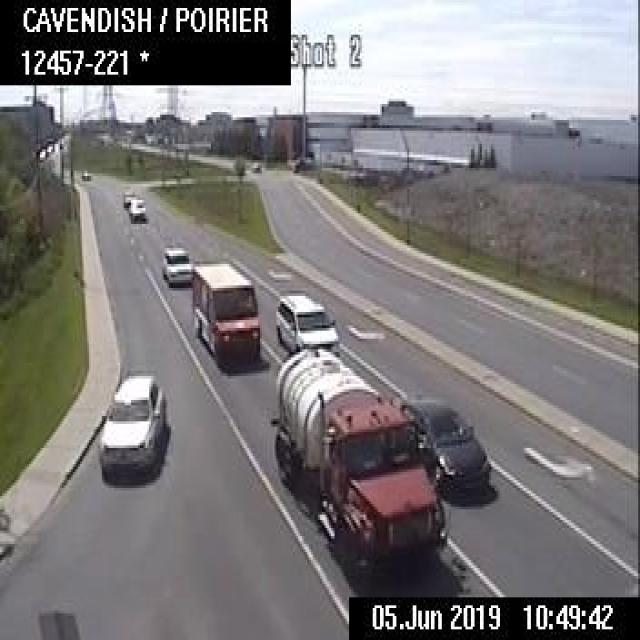vehicle: (273, 344, 443, 573), (392, 392, 491, 498), (191, 259, 260, 368), (98, 368, 167, 477), (273, 288, 340, 356), (160, 245, 193, 284), (128, 196, 145, 222), (121, 189, 134, 204), (79, 168, 90, 180)
